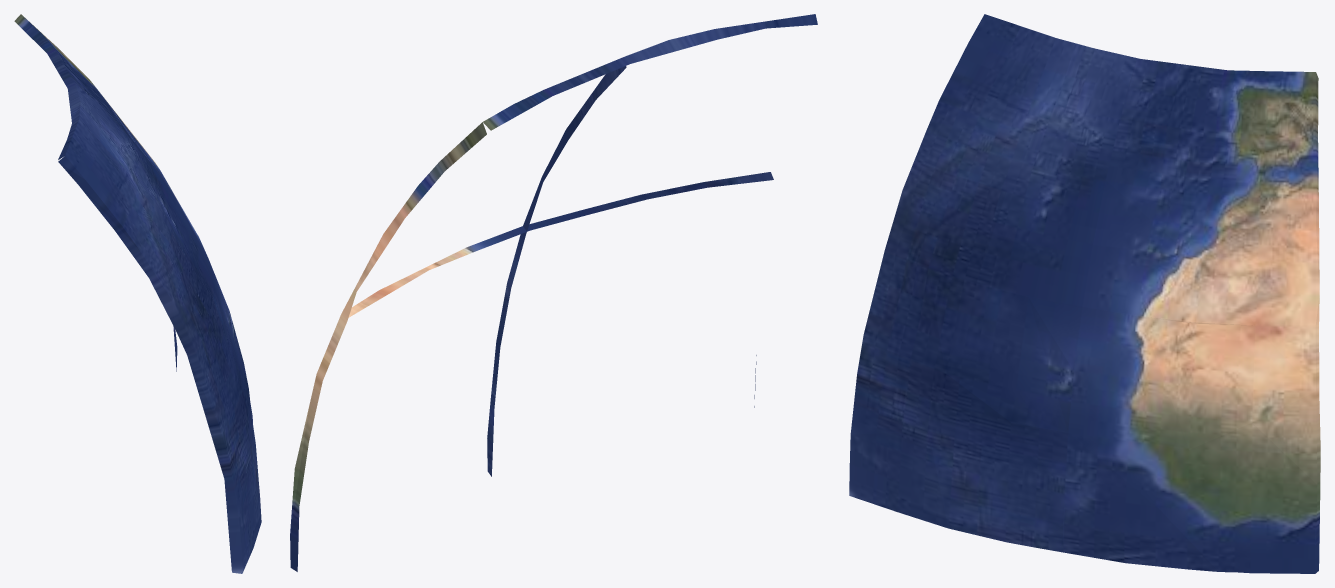
The picture shows the model from 3 angles, left to right: view 1: azimuth 30°, elevation 25°; view 2: azimuth 150°, elevation 25°; view 3: azimuth 270°, elevation 25°; orthographic projection. The views are drawn at different scales.
Size of the model in its own units: 3246415 by 4563458 by 4568611.
Materials: 1 (1 with a texture image).
